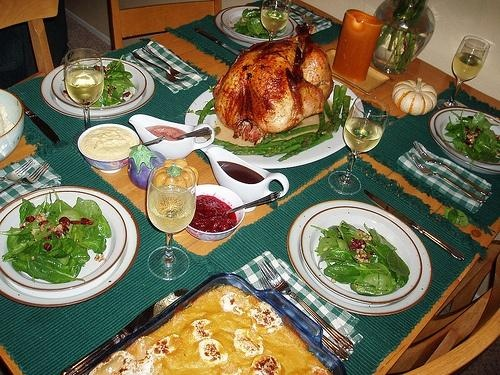chair: (386, 240, 500, 375), (110, 1, 224, 53), (1, 1, 61, 91)
diningtable: (2, 2, 500, 375)
